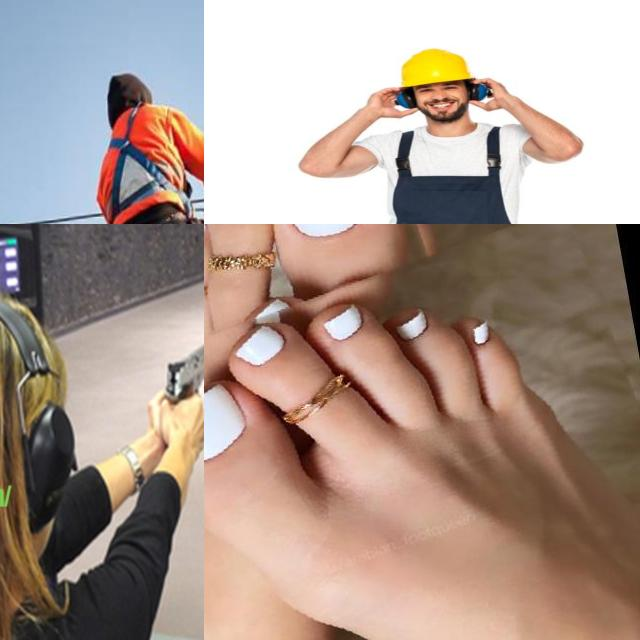Barefoots: (204, 297, 640, 640), (204, 224, 425, 640)
Ear-protection: (0, 297, 78, 619), (384, 68, 506, 134)
Harness: (109, 107, 167, 216)
